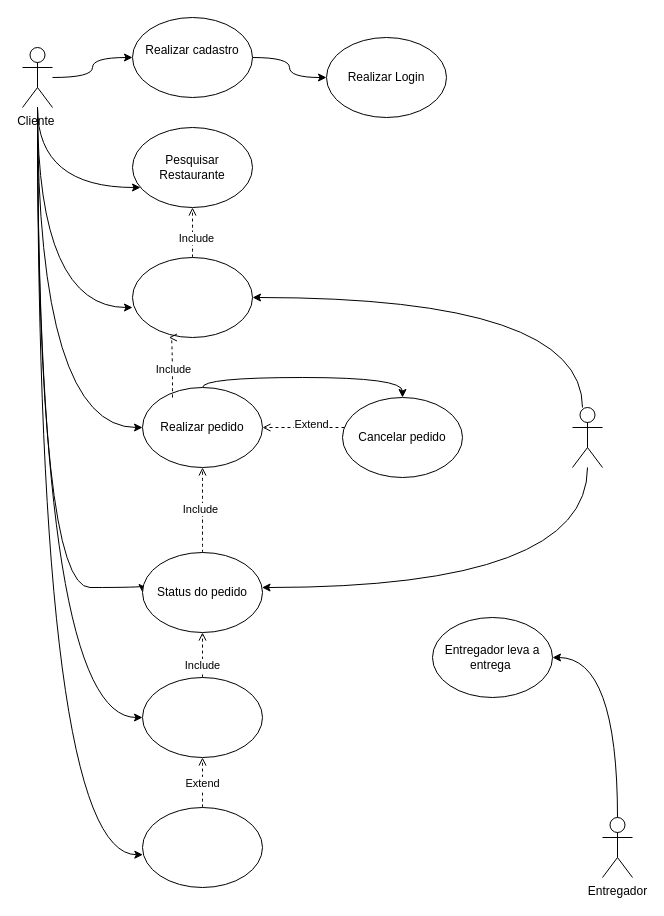
Some shapes in this 664 by 916 pixel diagram are drawn without their labels. Here are the shapes that lost their labels. From the top down, the box of each, then its label:
(132, 256, 252, 338): Ver cardapio
(572, 406, 602, 468): Restaurante
(142, 676, 262, 758): Realizar pagamento
(142, 806, 262, 888): Realizar avaliacao
